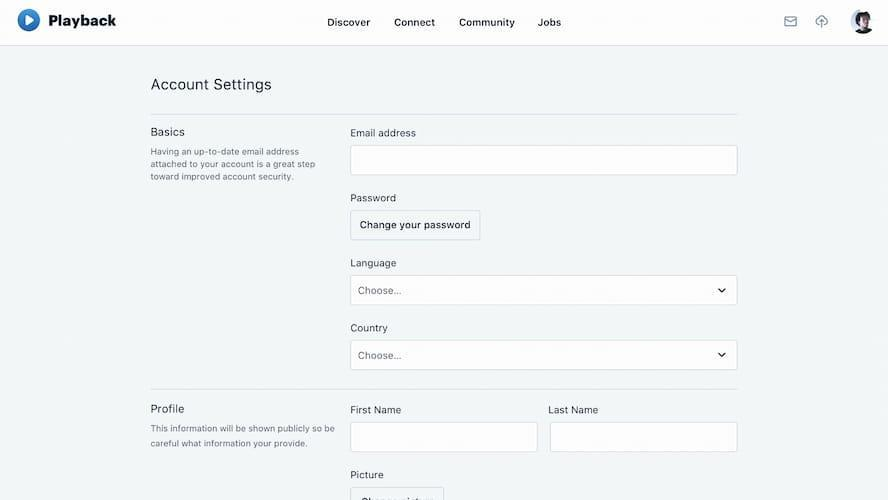button: (349, 210, 483, 242)
dropdown: (350, 339, 741, 373), (349, 274, 740, 307)
icon: (785, 17, 798, 28)
input: (350, 145, 740, 177), (550, 421, 741, 455), (349, 421, 540, 455)
label: (149, 77, 274, 95), (349, 128, 418, 140), (547, 405, 601, 418), (458, 19, 518, 30), (351, 405, 403, 417), (150, 401, 187, 416), (349, 259, 399, 270), (149, 126, 186, 140), (350, 193, 399, 203), (328, 18, 372, 29), (394, 18, 438, 28), (350, 469, 387, 480), (349, 325, 390, 334), (538, 19, 563, 29)
